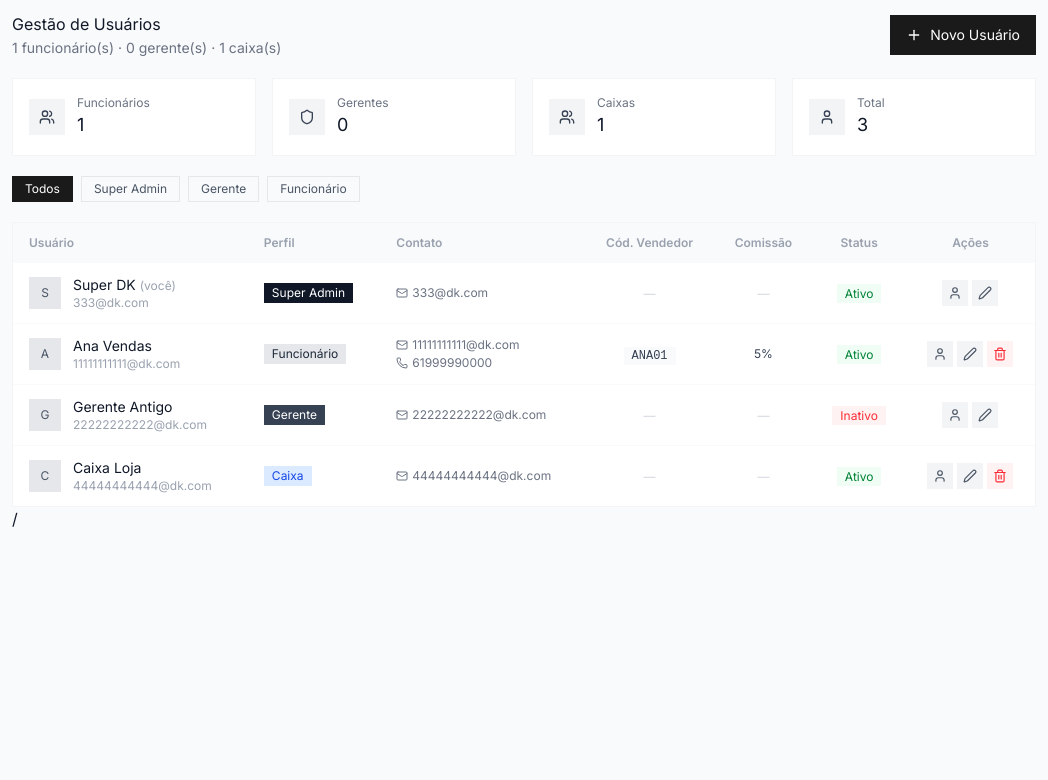
Test: Employees › desativa um usuário após confirmação
Check: the text "Ana Vendas" is shown, box top-left (73, 337), bottom-right (152, 354)
Click the button named "Desativar" in the row of "Ana Vendas". click: (1000, 354)
box: top-left (988, 341), bottom-right (1014, 367)
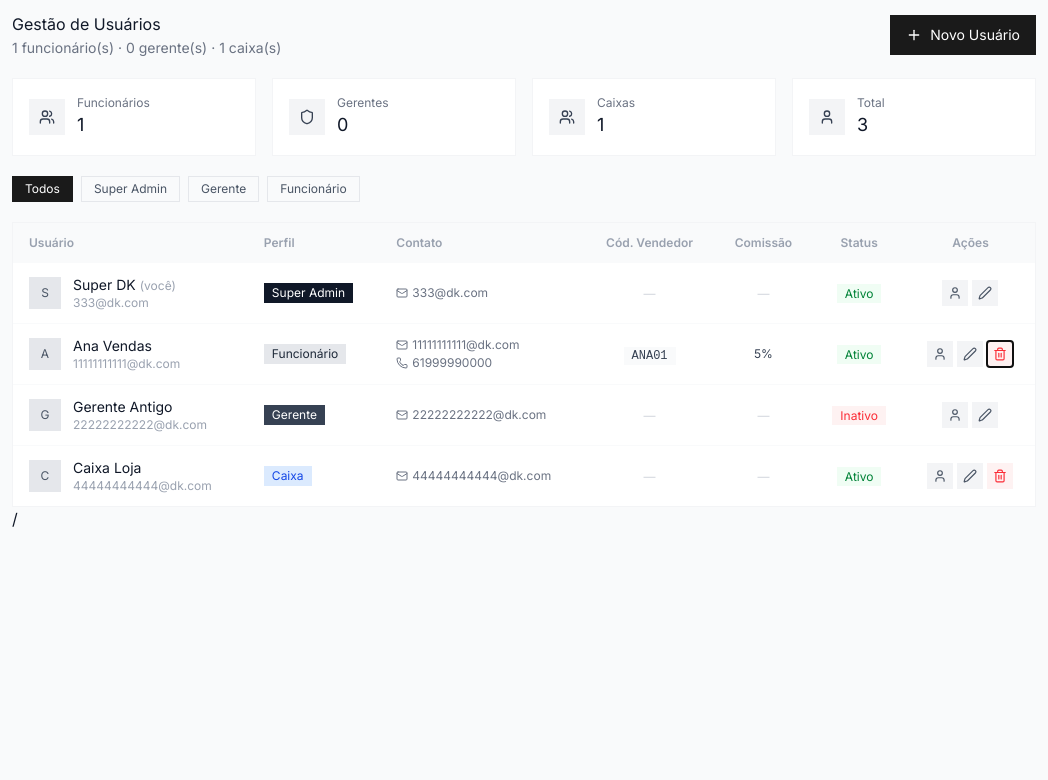
Click the button titled "Desativar" in the row of "Ana Vendas". click: (1000, 354)
box: top-left (988, 341), bottom-right (1014, 367)
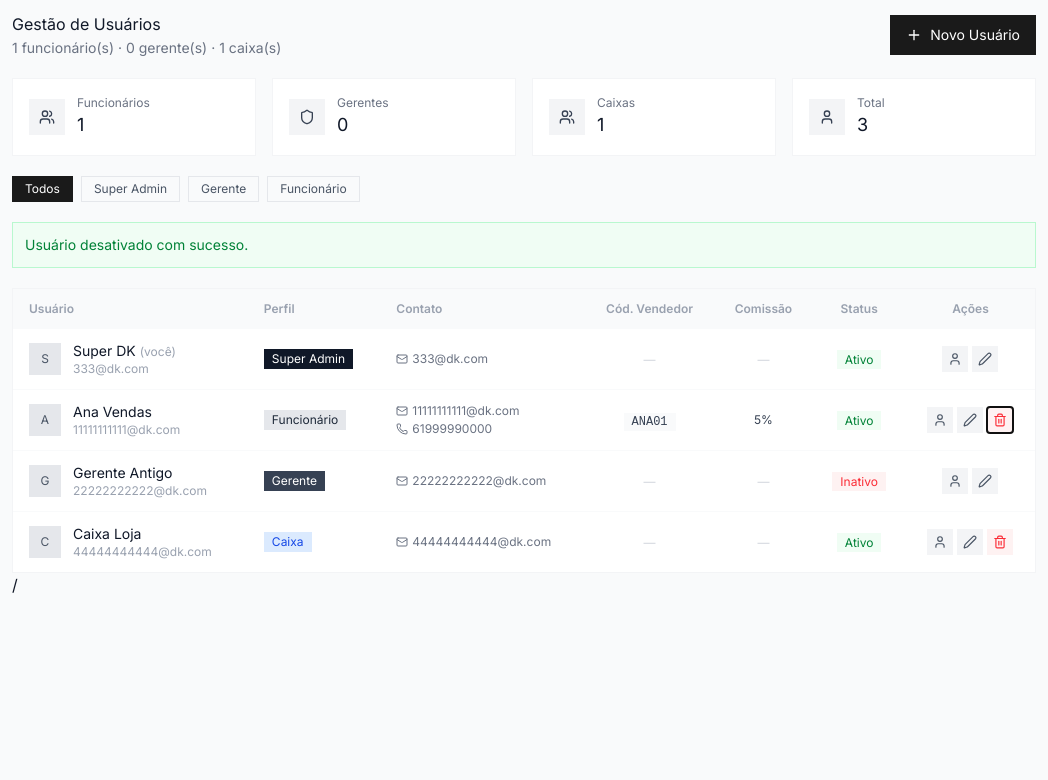
Check: the text "Usuário desativado com sucesso." is shown, box top-left (12, 222), bottom-right (1036, 268)
Click the button titled "Desativar" in the row of "Caixa Loja". click: (1000, 542)
box: top-left (988, 529), bottom-right (1014, 555)
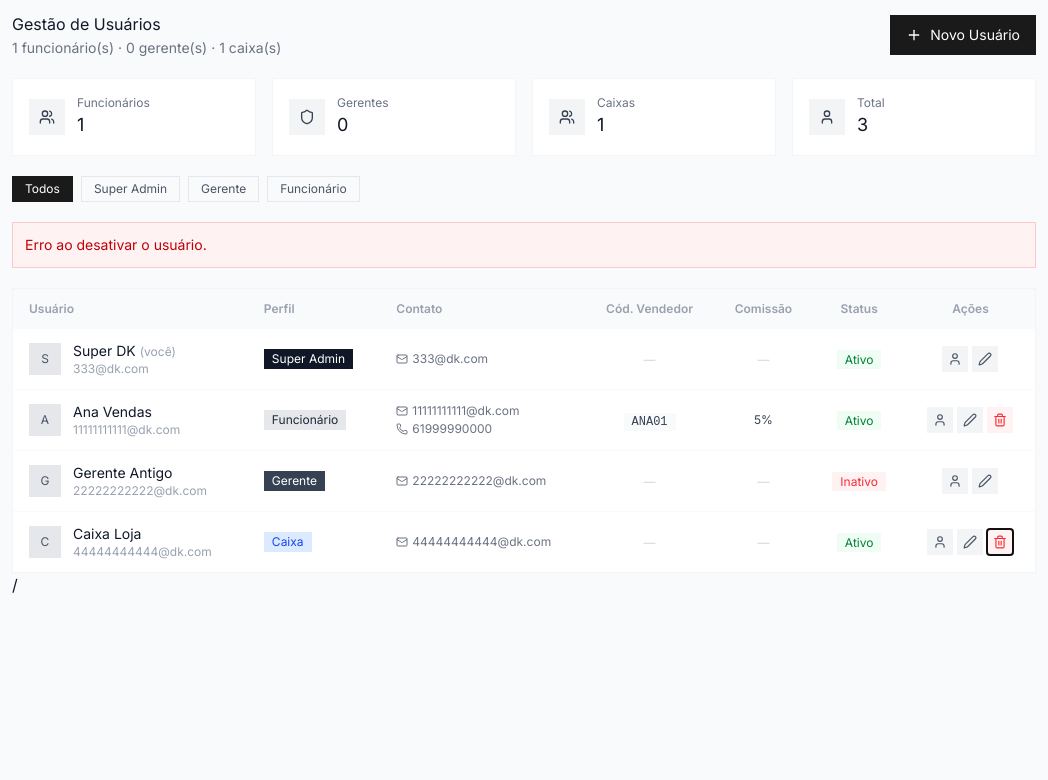
Check: the text "Erro ao desativar o usuário." is shown, box top-left (12, 222), bottom-right (1036, 268)
